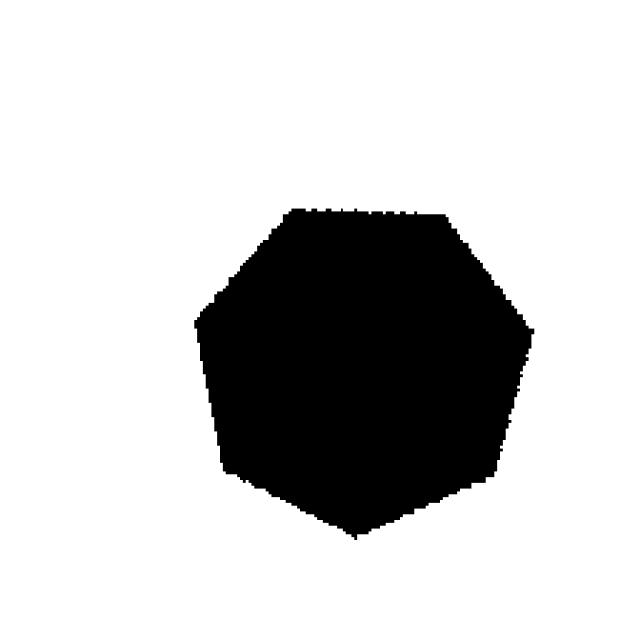Heptagon: (160, 163, 607, 567)
